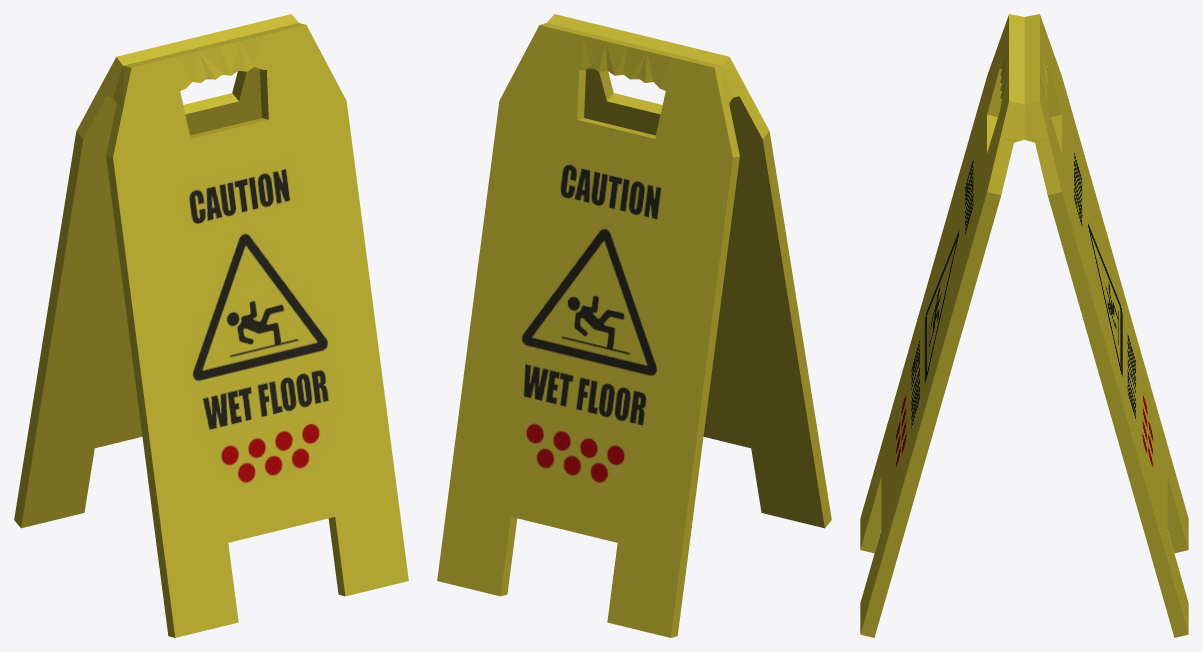
File: WetFloorSign.obj
3 renders of one model, left to right at view 1: azimuth 30°, elevation 25°; view 2: azimuth 150°, elevation 25°; view 3: azimuth 270°, elevation 25°, orthographic.
Parts seen in each view (by area): view 1: Mesh; view 2: Mesh; view 3: Mesh.
Boxes of the visible parts, x1=… form: Mesh: x1=14, y1=14, x2=408, y2=637; Mesh: x1=437, y1=14, x2=831, y2=637; Mesh: x1=860, y1=14, x2=1188, y2=637.
Size of the model in its own units: 0.3001 by 0.6295 by 0.3585.
1 material, 1 textured.
